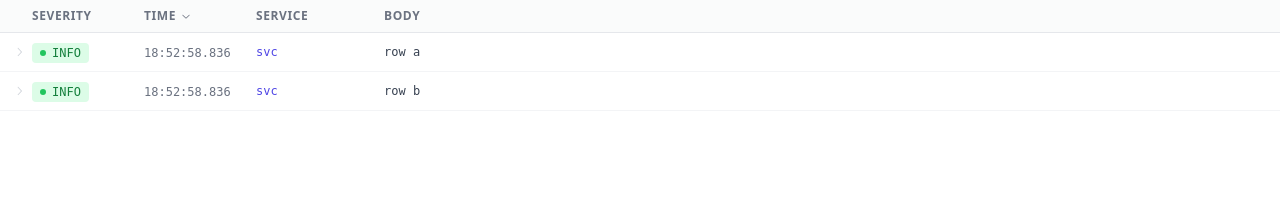
Test case: LogTable › expands only one row at a time (clicking a second row collapses the first)
This screenshot has width=1280, height=223.
Click the row "INFO 18:52:58.836 svc row a": x=216, y=53 [12, 43, 420, 63]
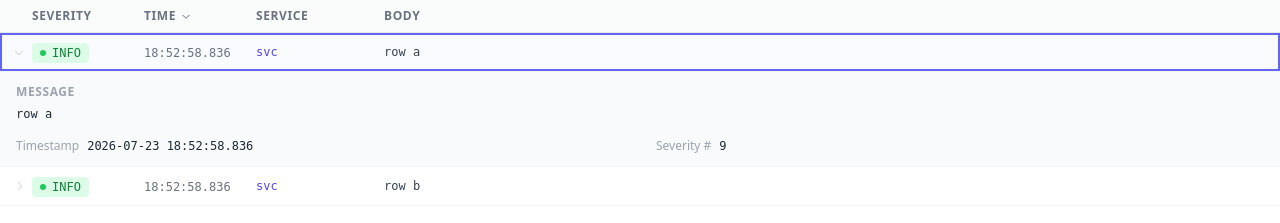
Click the row "INFO 18:52:58.836 svc row b": x=216, y=187 [12, 177, 420, 197]
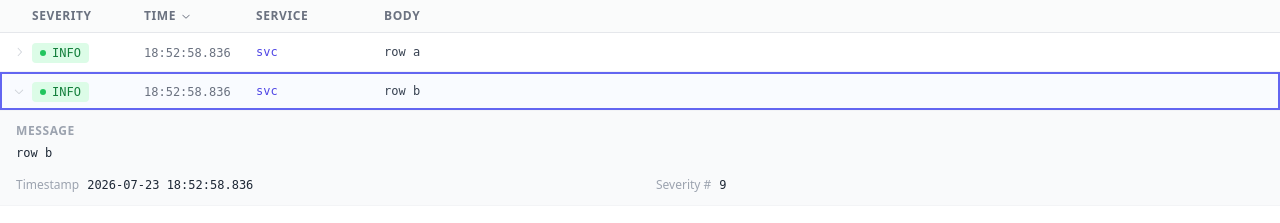
expect the row "INFO 18:52:58.836 svc row b" is expanded: met, box [0, 72, 1279, 110]
